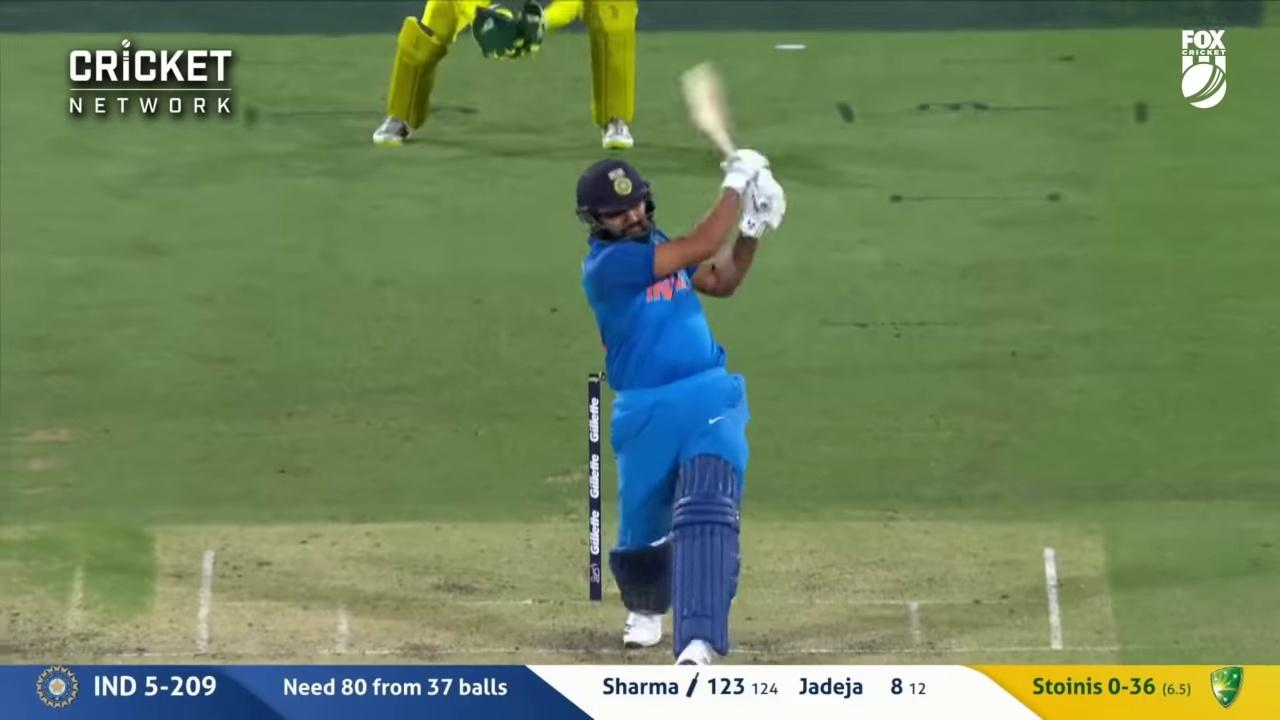batsman: (576, 62, 784, 665)
